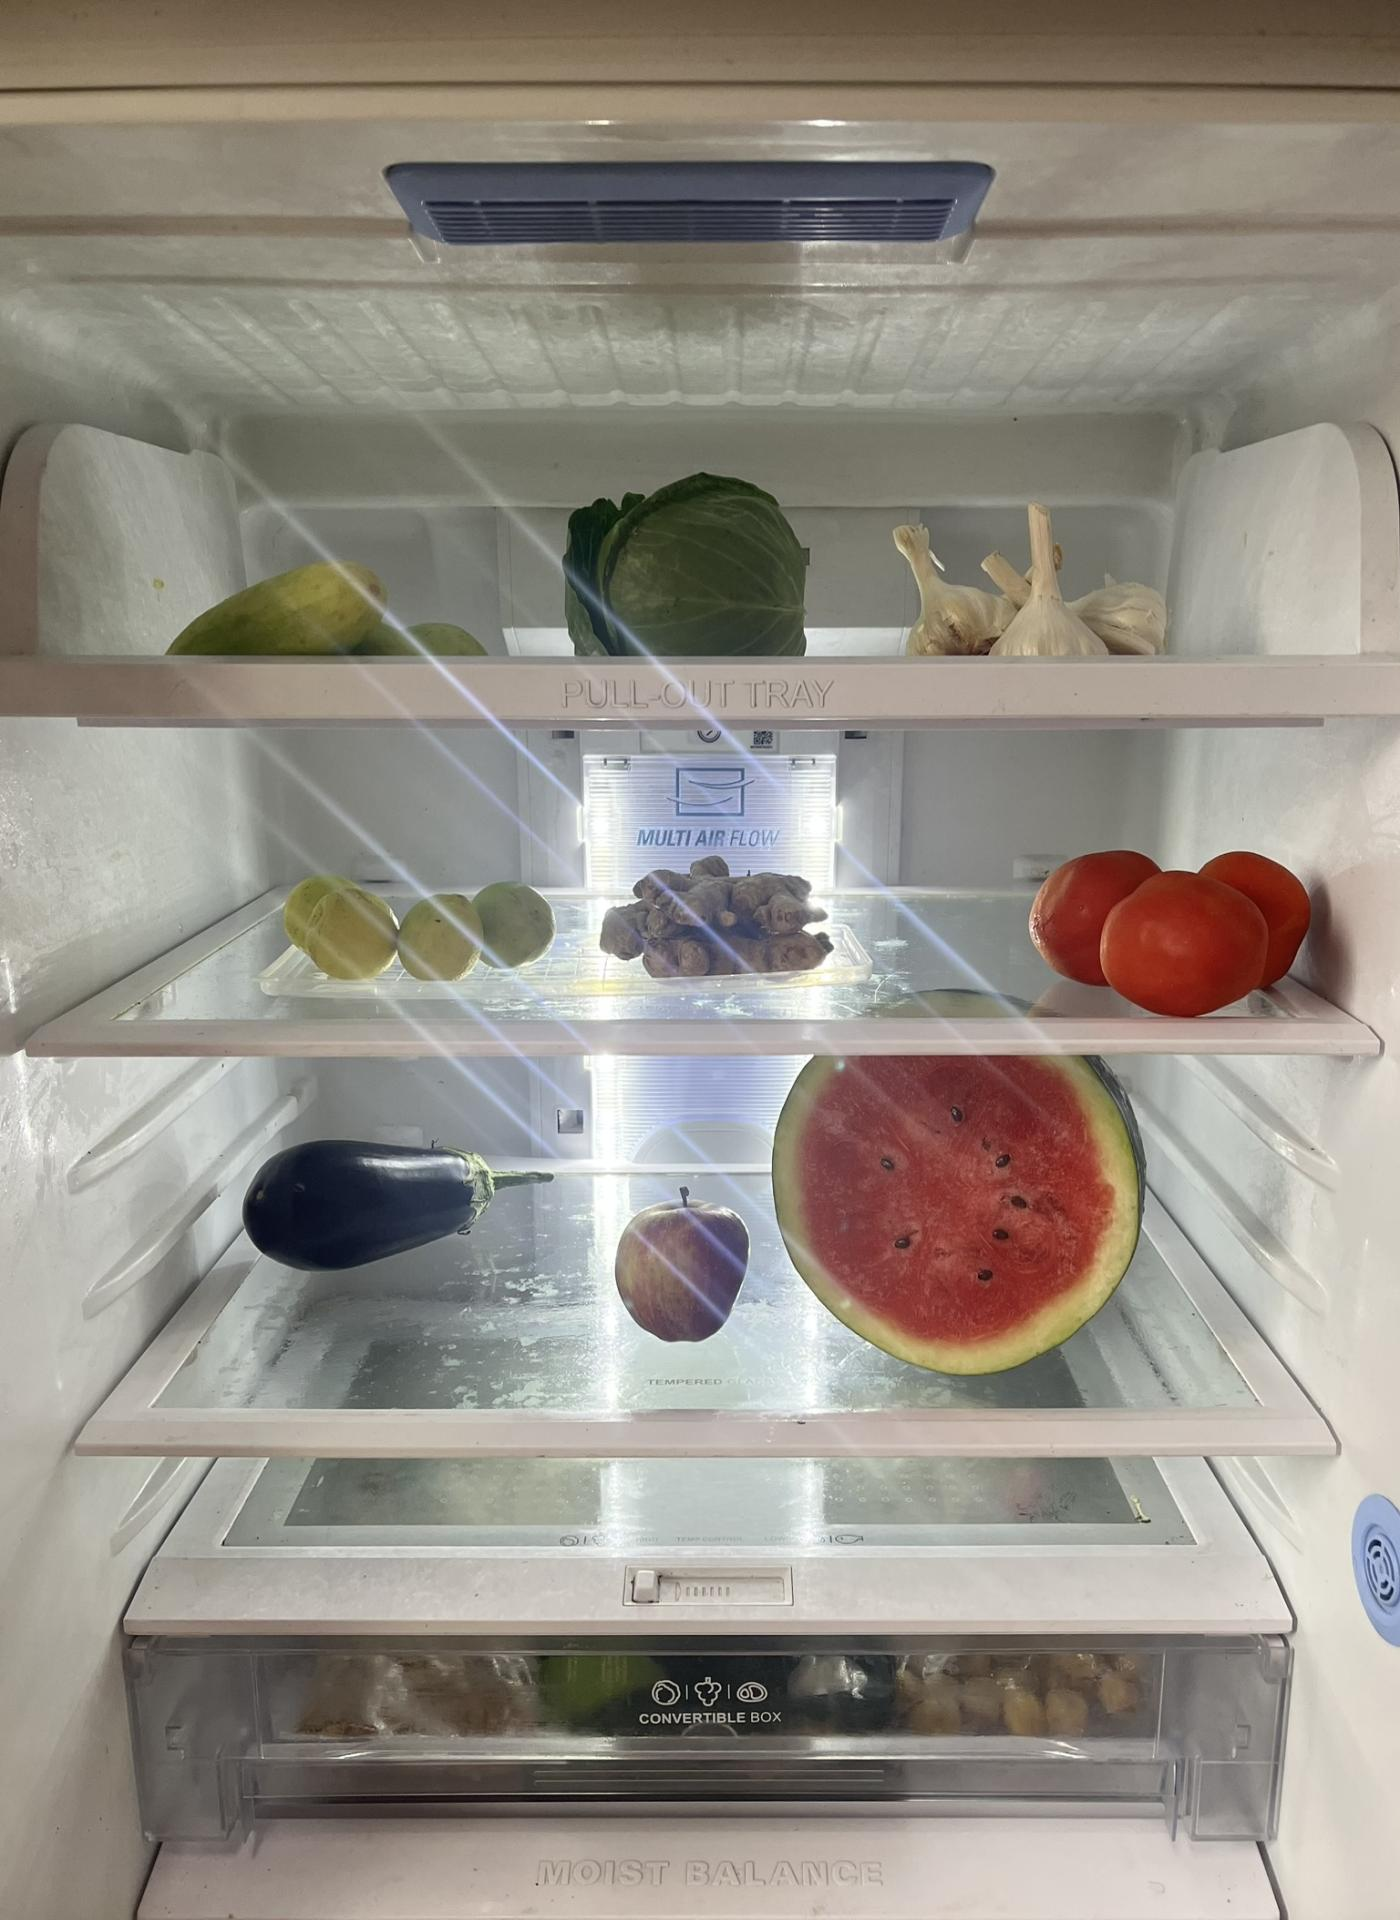apple: (613, 1175, 756, 1348)
cabbage: (547, 462, 820, 650)
cucumber: (152, 553, 498, 659)
garlic: (881, 496, 1179, 656)
ginger: (595, 841, 841, 987)
lemon: (286, 872, 556, 987)
tomato: (1030, 841, 1315, 1021)
watermelon: (768, 1052, 1154, 1380)
